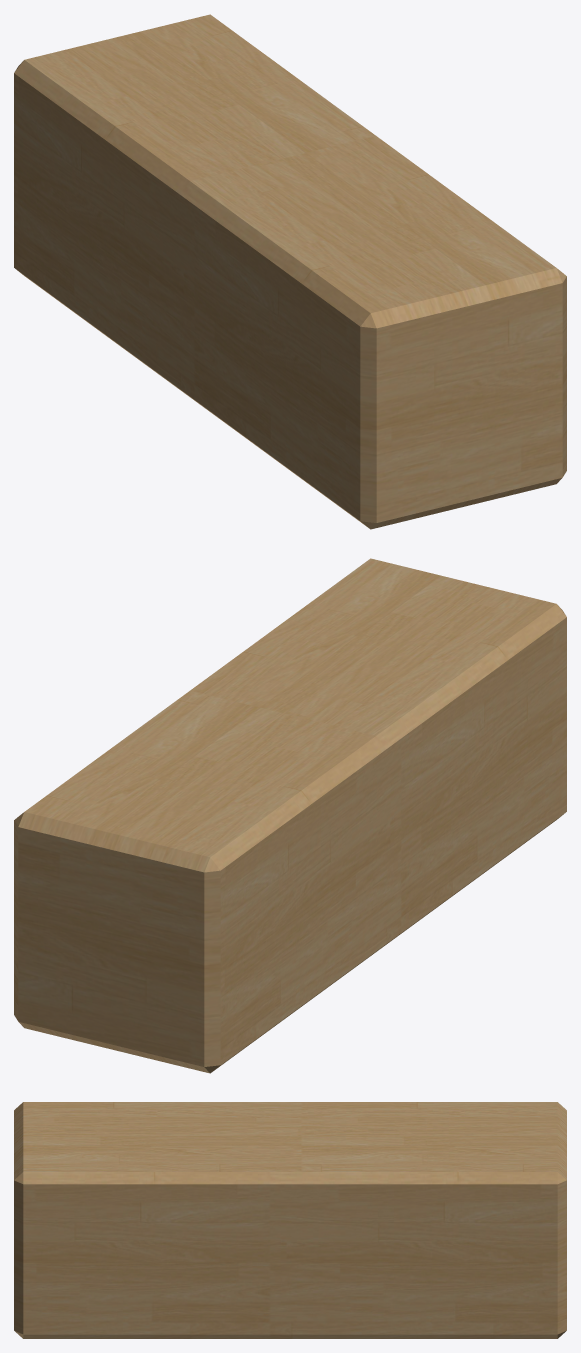
File: block.glb
3 views of the same model, one above another, from view 1: azimuth 30°, elevation 25°; view 2: azimuth 150°, elevation 25°; view 3: azimuth 270°, elevation 25° (orthographic). The views are drawn at different scales.
Parts seen in each view (by area): view 1: pCube19_lambert2_0; view 2: pCube19_lambert2_0; view 3: pCube19_lambert2_0.
Part boxes in pixels (left/top/right/bottom): pCube19_lambert2_0: left=14, top=14, right=566, bottom=529; pCube19_lambert2_0: left=14, top=558, right=566, bottom=1073; pCube19_lambert2_0: left=14, top=1102, right=566, bottom=1338.
Bounding box in the file's own units: 1.96 × 1.96 × 5.88.
Materials: 1 (1 with a texture image).
